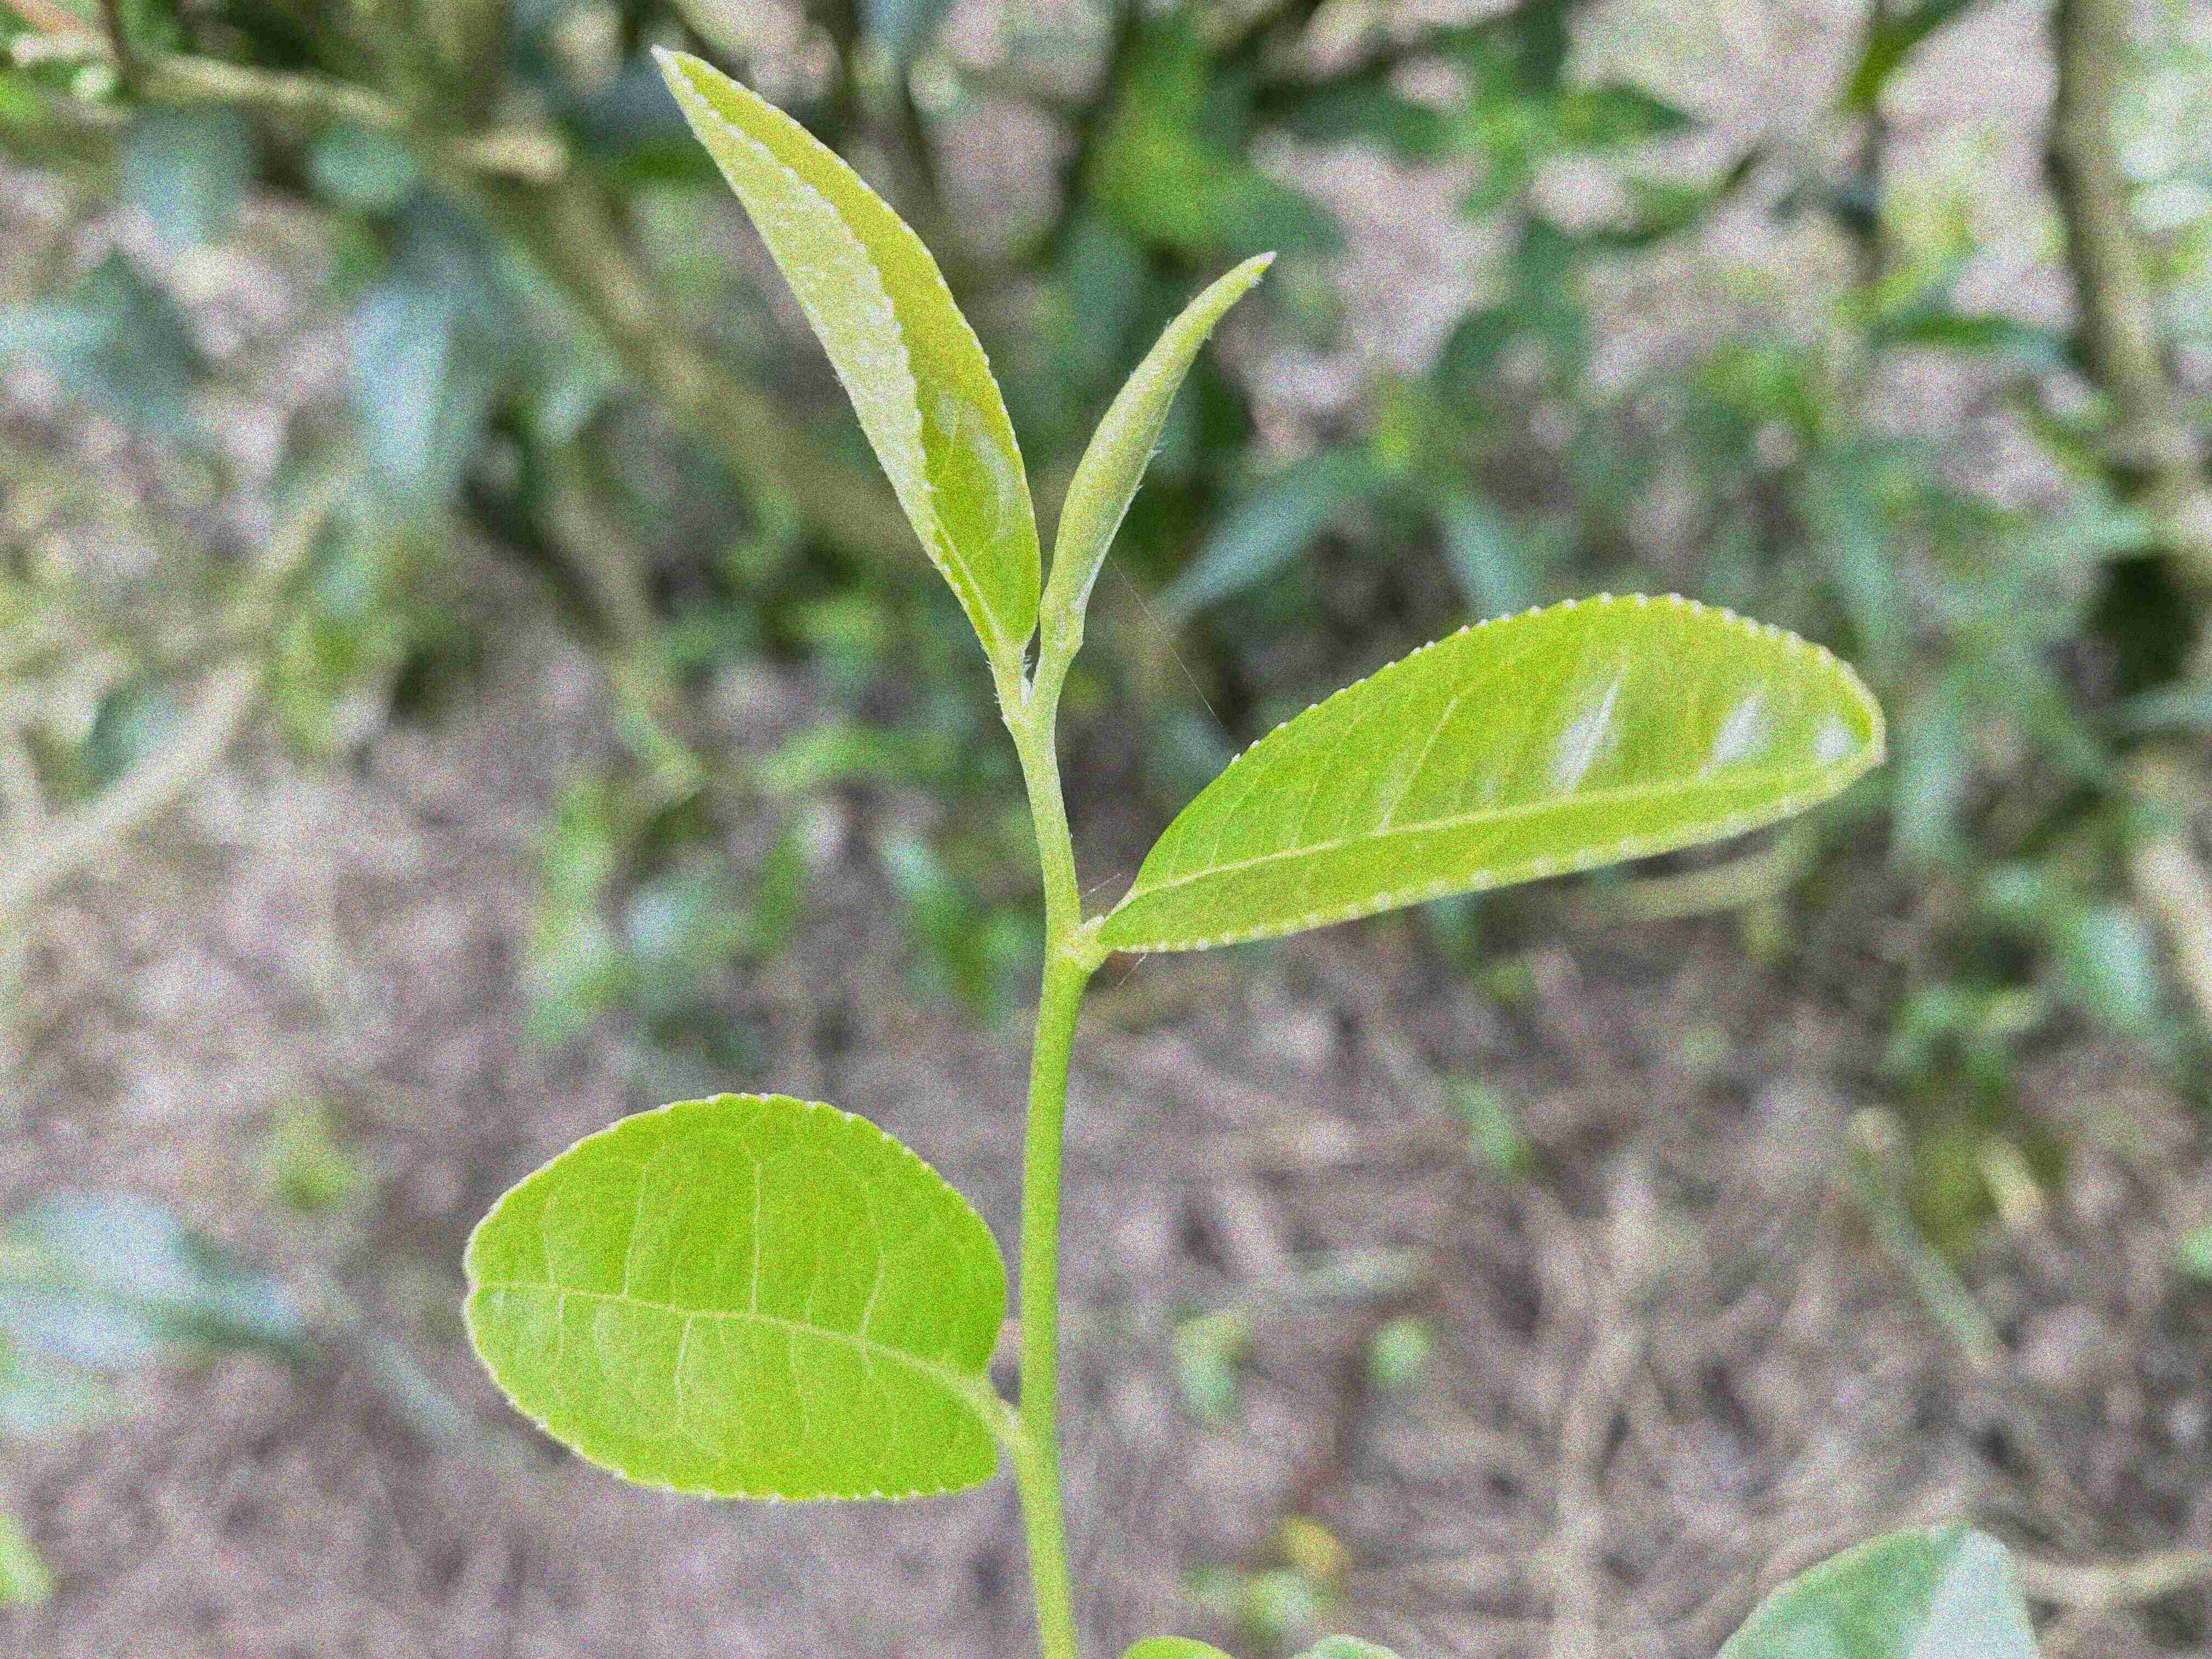healthy: (1096, 587, 1888, 955), (653, 44, 1042, 664), (456, 1087, 1007, 1509)
